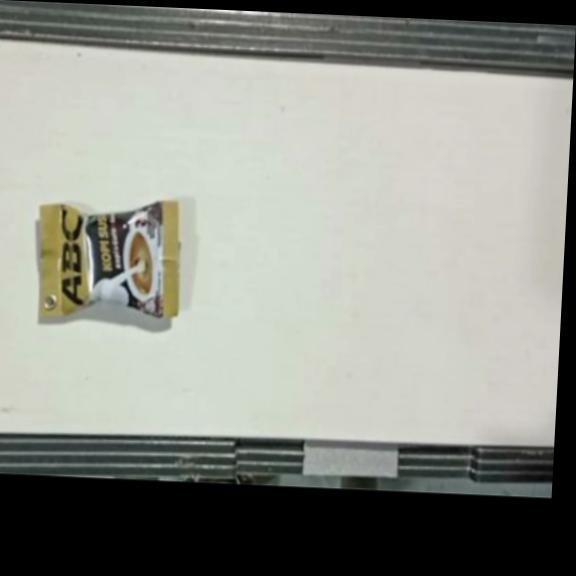Plastik: (32, 196, 185, 322)
